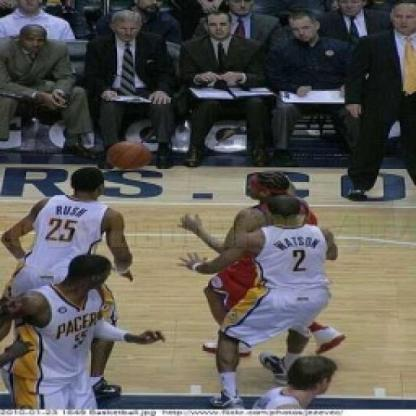basketball: (106, 137, 155, 177)
